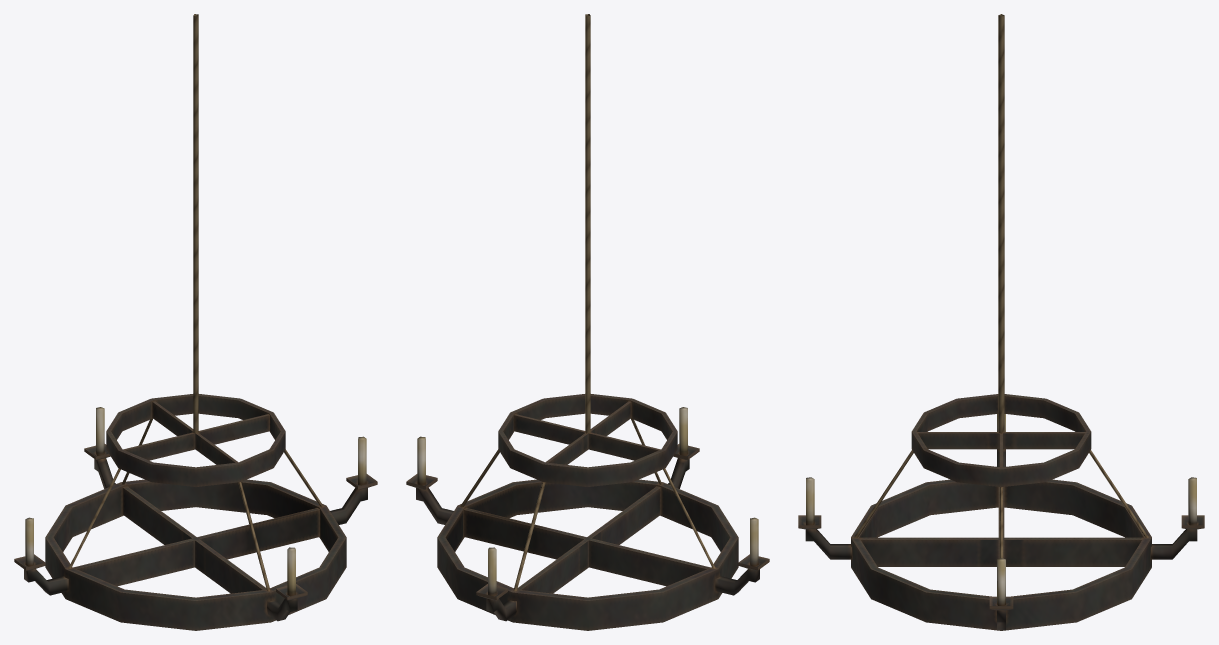
Rendered from chandelier_01.fbx.
3 views of the same model, side by side, from view 1: azimuth 30°, elevation 25°; view 2: azimuth 150°, elevation 25°; view 3: azimuth 270°, elevation 25° (orthographic).
Visible parts, largest first — view 1: chandelier_01; view 2: chandelier_01; view 3: chandelier_01.
Boxes of the visible parts, x1=… form: chandelier_01: x1=14, y1=14, x2=377, y2=630; chandelier_01: x1=406, y1=14, x2=769, y2=630; chandelier_01: x1=798, y1=14, x2=1204, y2=630.
Size of the model in its own units: 600 by 900 by 600.
